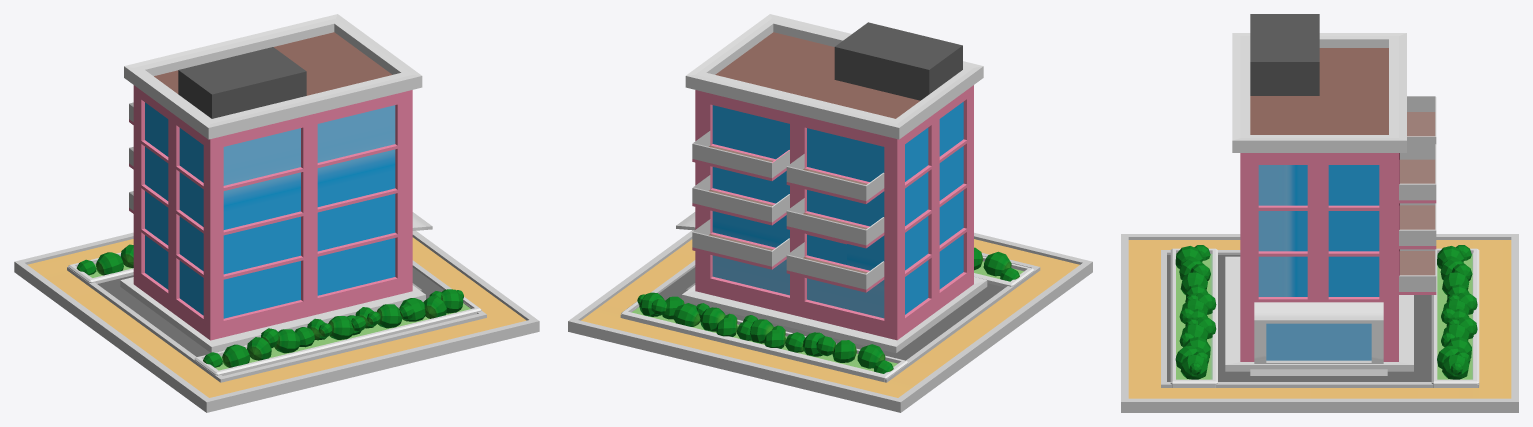
Rendered from house.fbx.
3 renders of one model, left to right at view 1: azimuth 30°, elevation 25°; view 2: azimuth 150°, elevation 25°; view 3: azimuth 270°, elevation 25°, orthographic. The views are drawn at different scales.
Parts seen in each view (by area): view 1: Bed; view 2: Bed; view 3: Bed.
Part boxes in pixels (x1,y1,x2,y2): Bed: [14, 14, 539, 412]; Bed: [568, 14, 1092, 412]; Bed: [1121, 14, 1518, 412].
Size of the model in its own units: 696 by 549 by 696.
